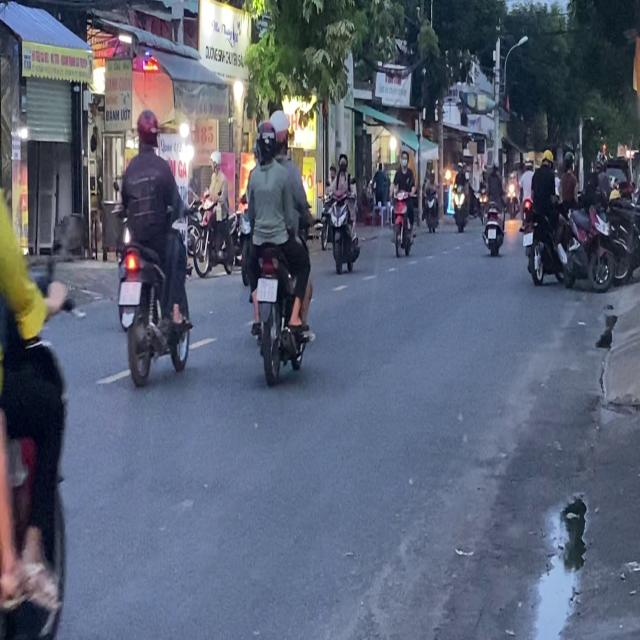helmet: (267, 108, 290, 156), (134, 106, 159, 150), (253, 117, 276, 162)
licenseplate: (114, 105, 193, 383), (240, 108, 316, 383)
nohelmet: (120, 281, 142, 303), (256, 278, 277, 300)
